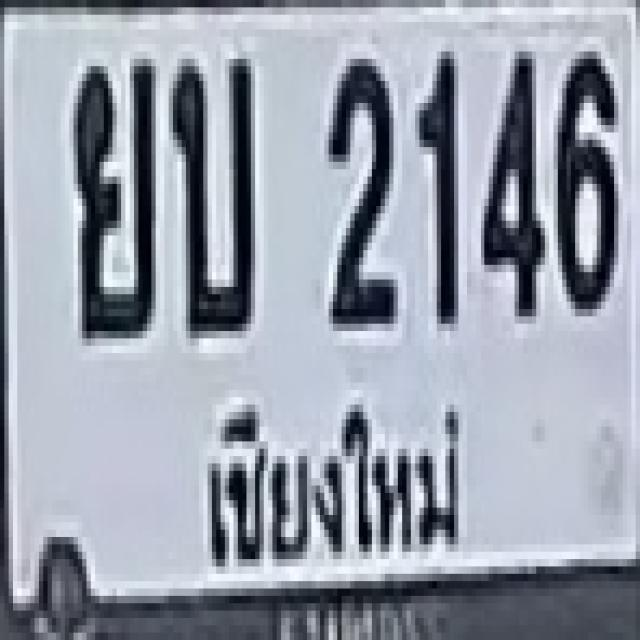-: (70, 55, 152, 335), (168, 52, 250, 331)
1: (415, 48, 454, 320)
2: (324, 55, 394, 320)
4: (480, 44, 541, 309)
6: (554, 44, 614, 309)
CMI: (183, 388, 480, 566)
